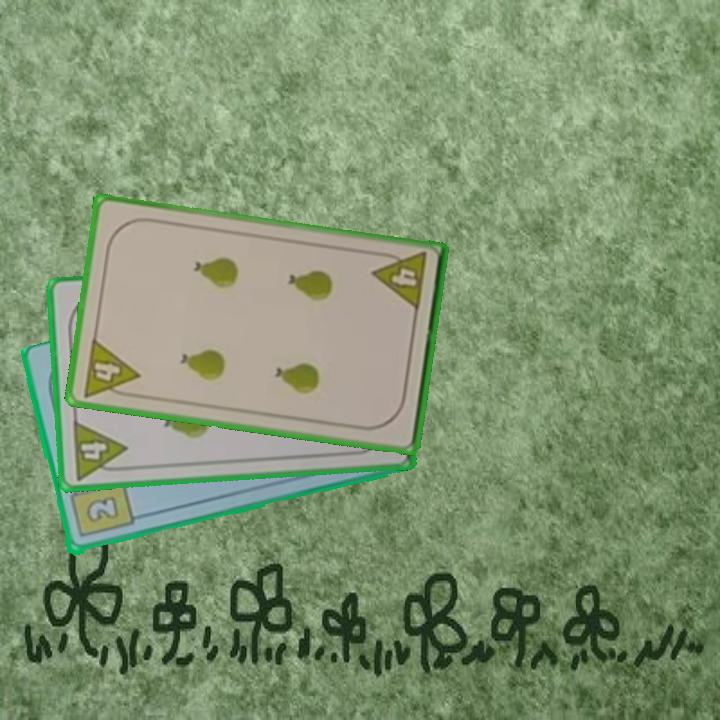2b: (66, 478, 136, 541)
4p: (79, 335, 142, 401), (69, 418, 131, 483), (369, 248, 429, 314)
